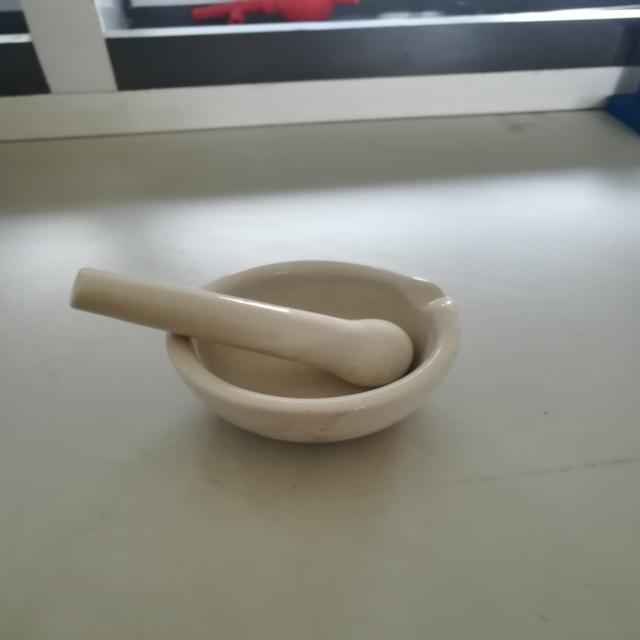Porcelain_Mortar Pestle: (18, 205, 504, 471)
